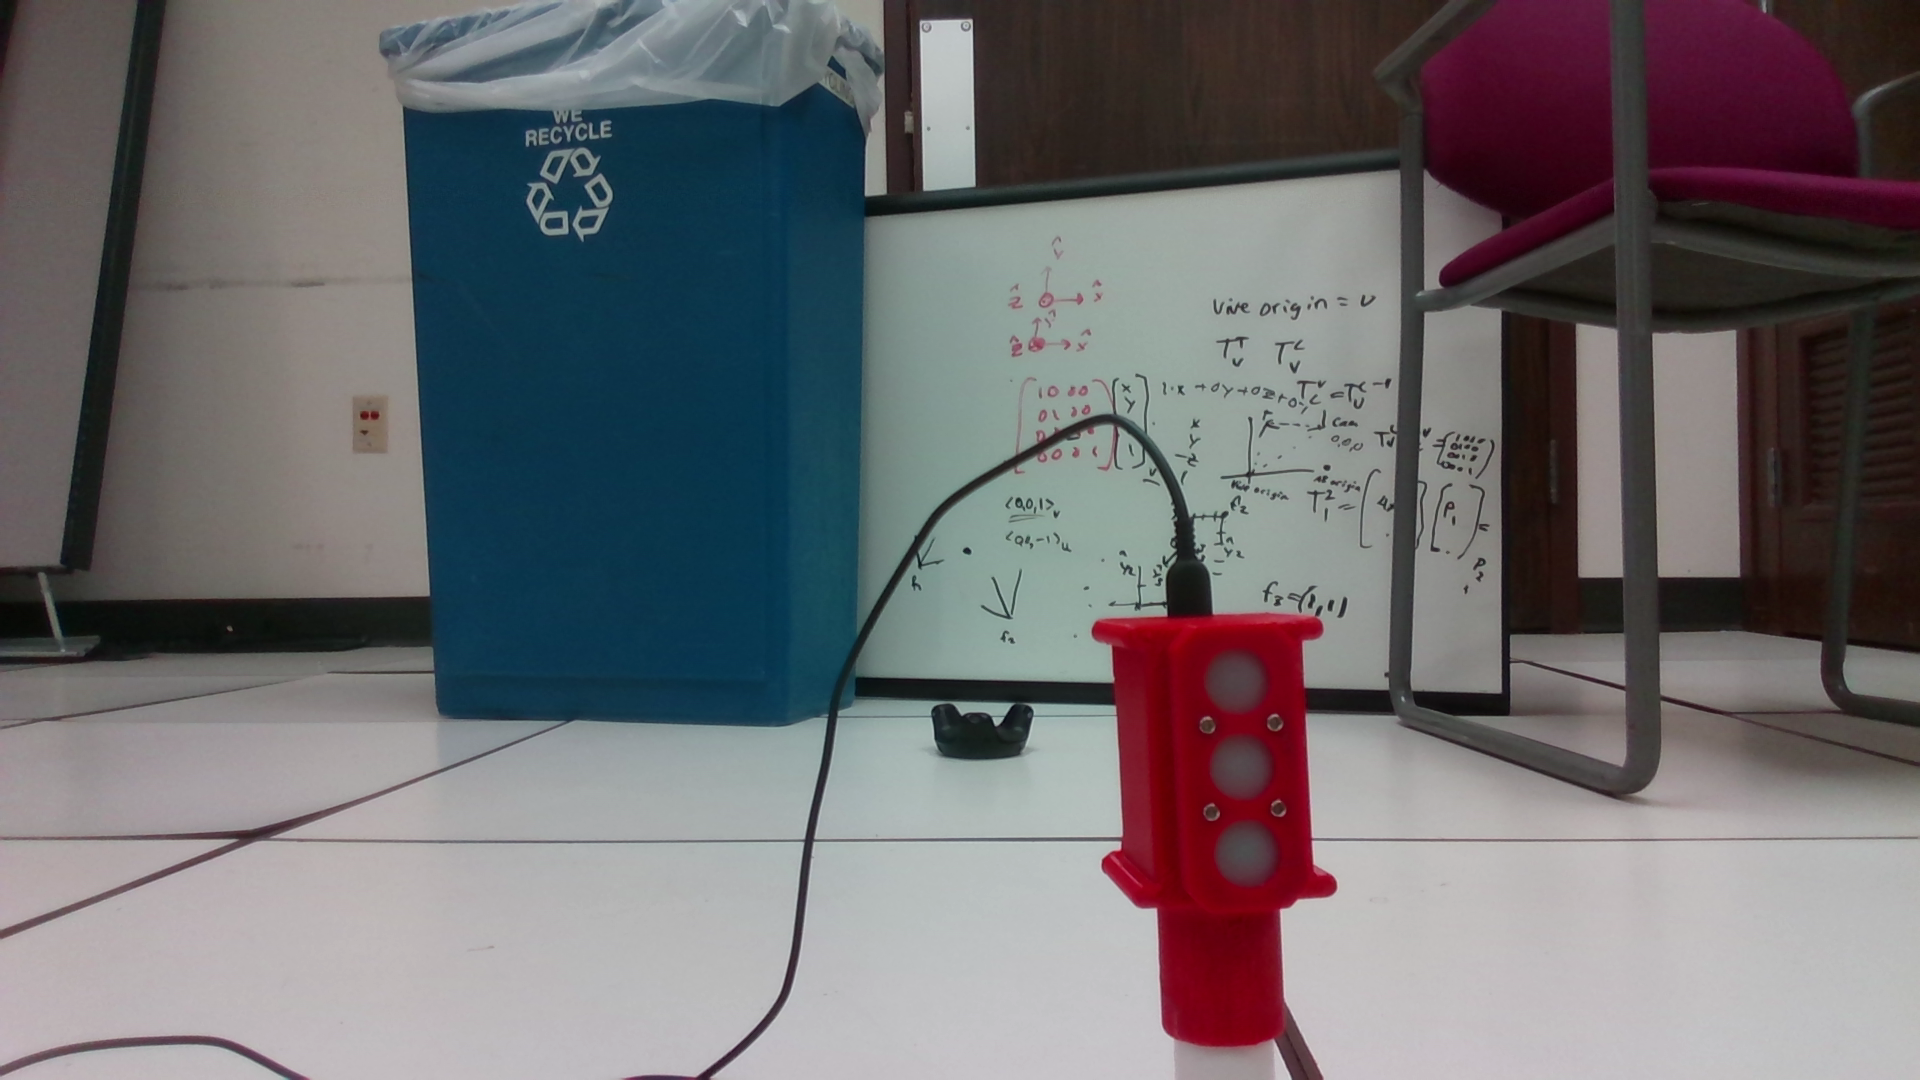stoplight: (1081, 615, 1335, 1043)
